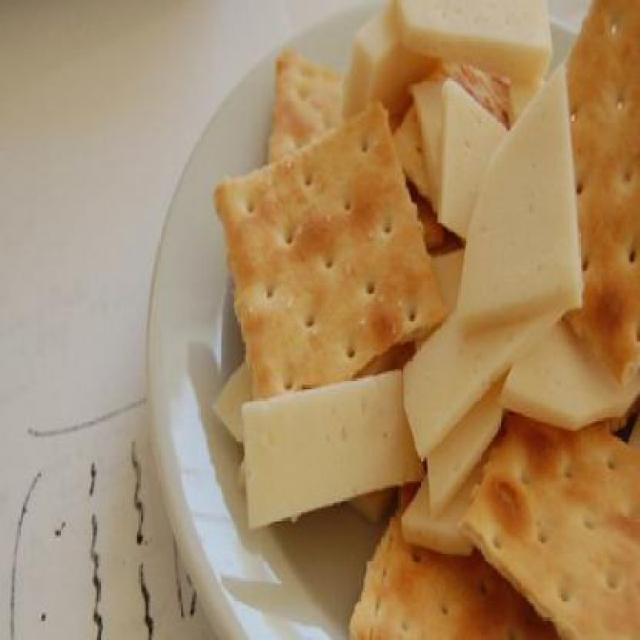Cheese: (464, 67, 582, 336)
Cracker packaged: (214, 107, 443, 367)
